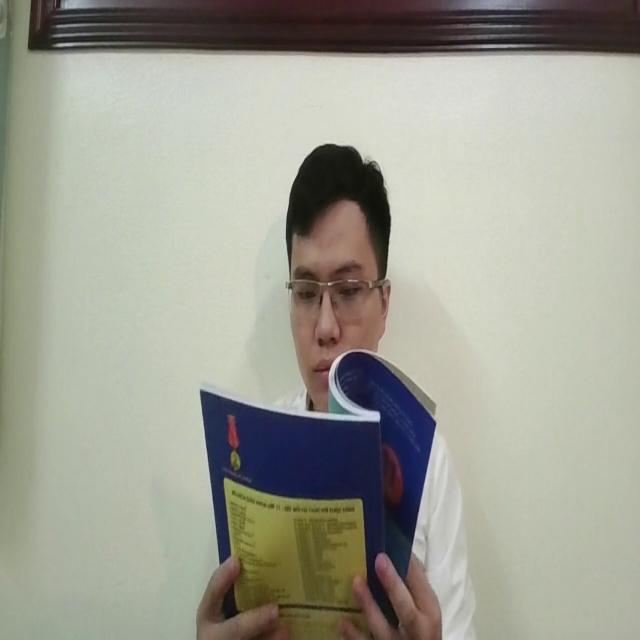book: (199, 347, 437, 640)
student: (270, 143, 471, 640)
